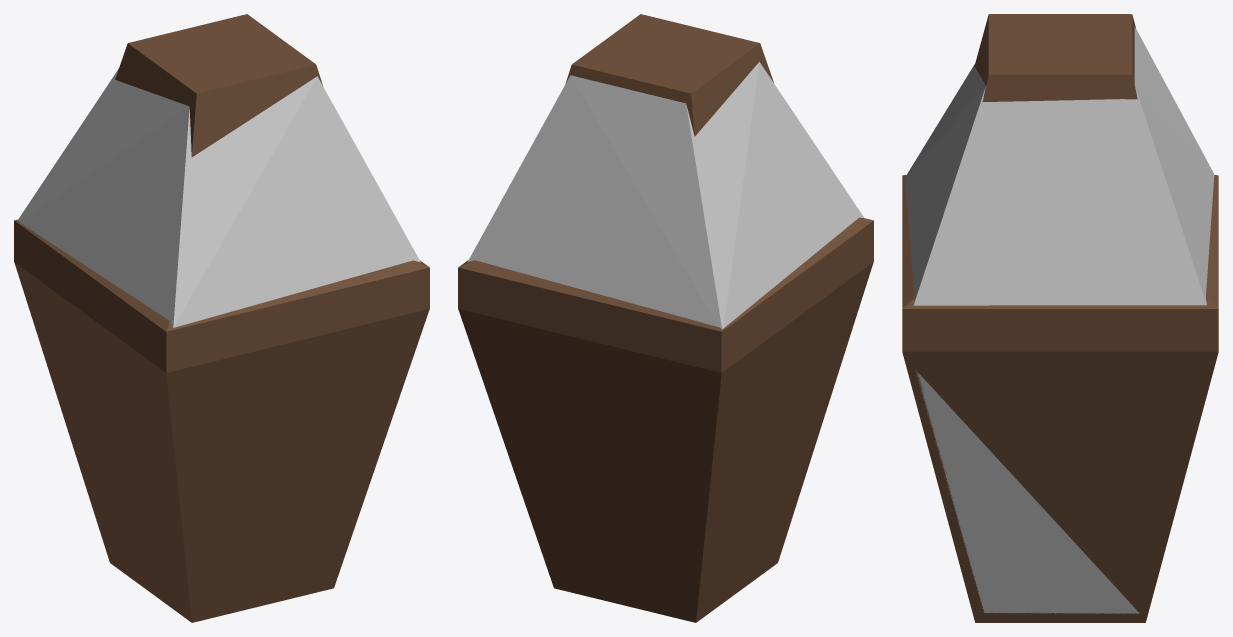
The model's file is SM_Bld_Roof_Cap_End_01.fbx.
The picture shows the model from 3 angles, left to right: view 1: azimuth 30°, elevation 25°; view 2: azimuth 150°, elevation 25°; view 3: azimuth 270°, elevation 25°; orthographic projection. The views are drawn at different scales.
Visible parts, largest first — view 1: SM_Bld_Roof_Cap_End_01, SM_Bld_Roof_Cap_End_01_ConvexHulls; view 2: SM_Bld_Roof_Cap_End_01, SM_Bld_Roof_Cap_End_01_ConvexHulls; view 3: SM_Bld_Roof_Cap_End_01_ConvexHulls, SM_Bld_Roof_Cap_End_01.
Boxes of the visible parts, box(x1,y1,x2,y2) form: SM_Bld_Roof_Cap_End_01: box(14, 14, 429, 622); SM_Bld_Roof_Cap_End_01_ConvexHulls: box(17, 69, 420, 327); SM_Bld_Roof_Cap_End_01: box(458, 14, 873, 622); SM_Bld_Roof_Cap_End_01_ConvexHulls: box(467, 62, 864, 329); SM_Bld_Roof_Cap_End_01_ConvexHulls: box(904, 26, 1214, 613); SM_Bld_Roof_Cap_End_01: box(902, 14, 1218, 622).
Size of the model in its own units: 43.04 by 43.04 by 81.42.
Materials: 2 (1 with a texture image).
